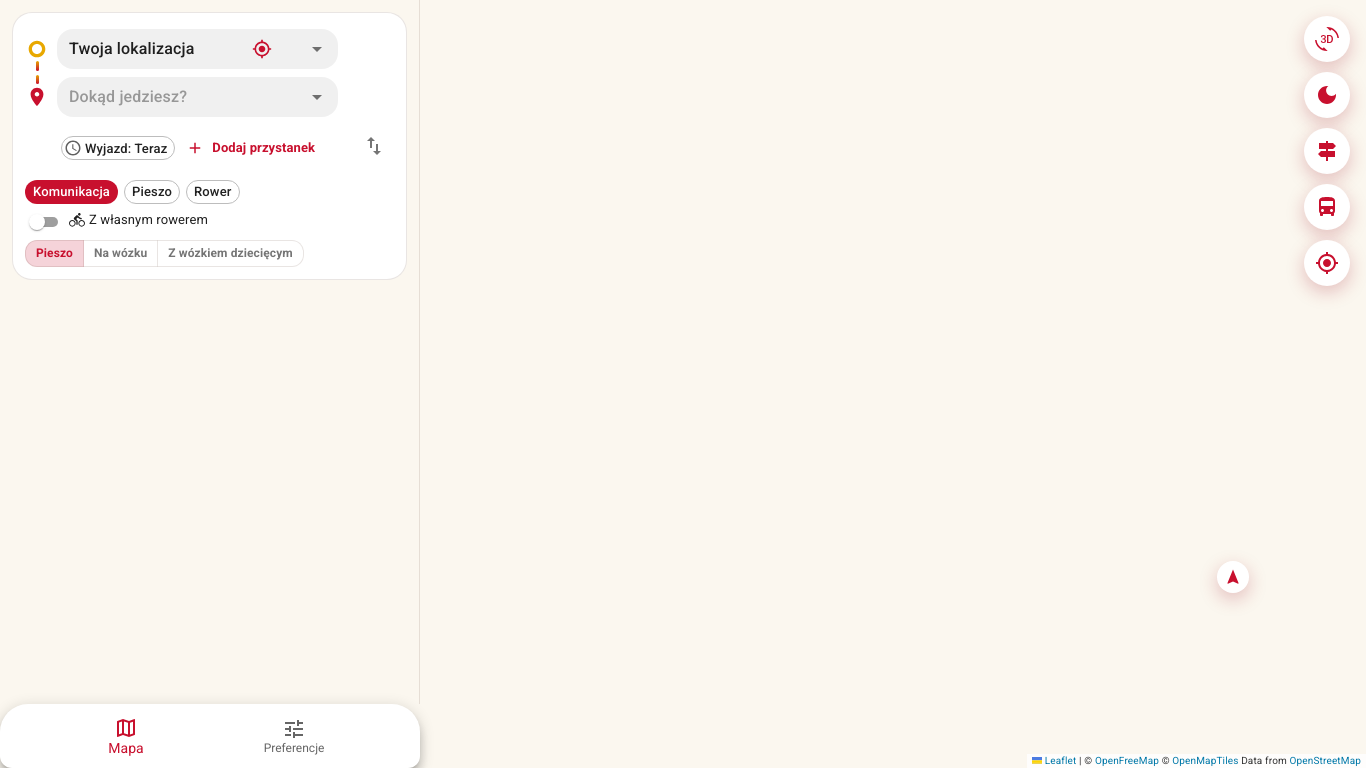
it: pick a place on the map › "Anuluj" leaves everything as it was
The width and height of the screenshot is (1366, 768).
Check: the dropdown with placeholder "Skąd jedziesz?" holds "Twoja lokalizacja", box [65, 29, 239, 69]
Press the mouse on the dropdown with placeholder "Dokąd jedziesz?" at (180, 97), box [65, 77, 295, 117]
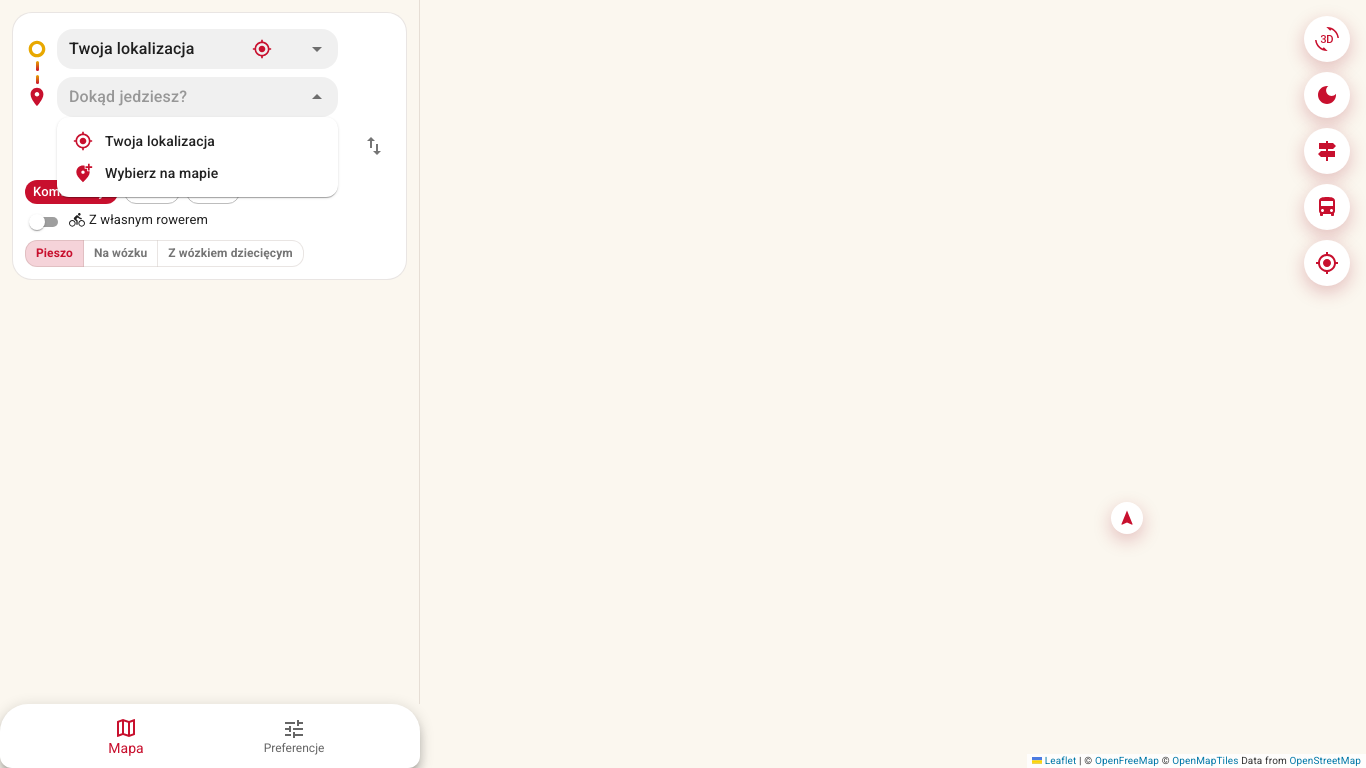
Click the option "Wybierz na mapie".
click(146, 173)  # box [73, 163, 218, 183]
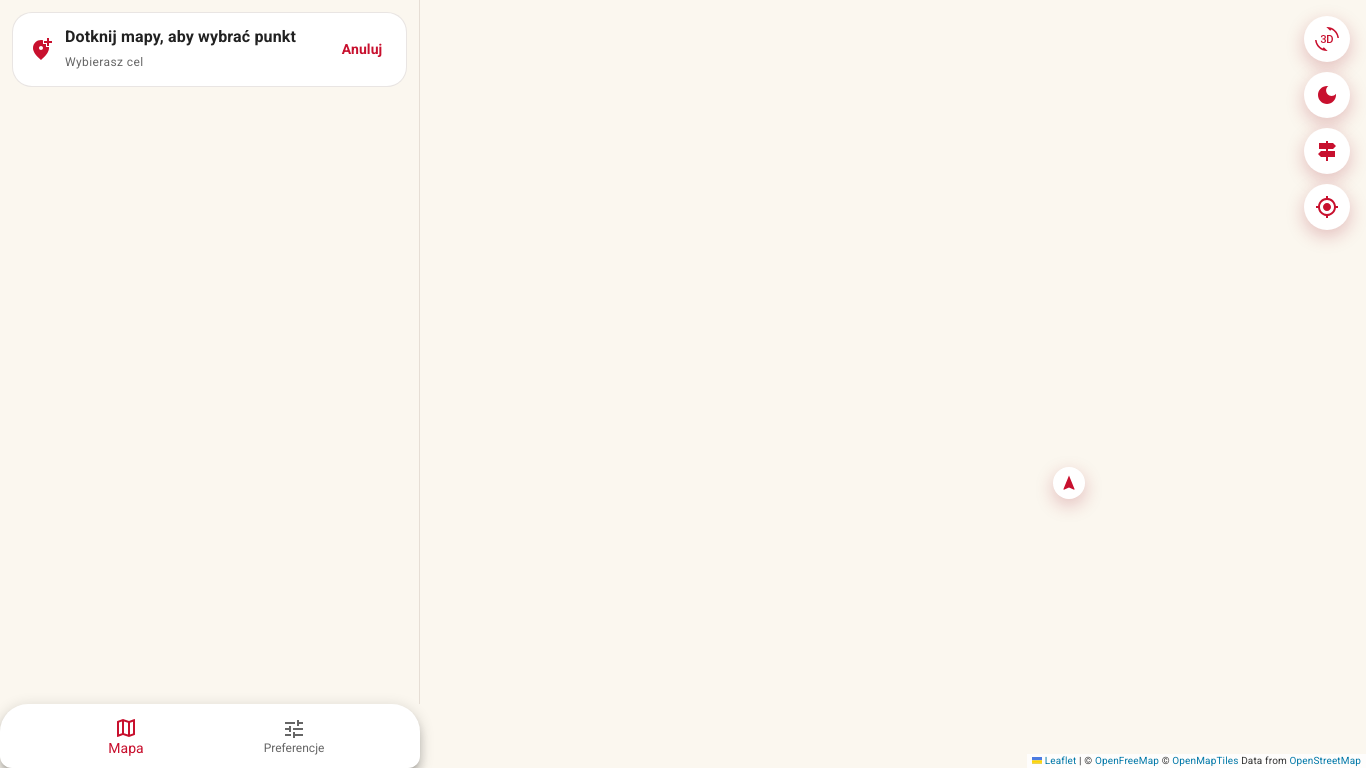
Check: the text "Dotknij mapy, aby wybrać punkt" is shown, box [65, 25, 318, 49]
Click the button "Anuluj".
click(362, 49)  # box [330, 25, 394, 74]
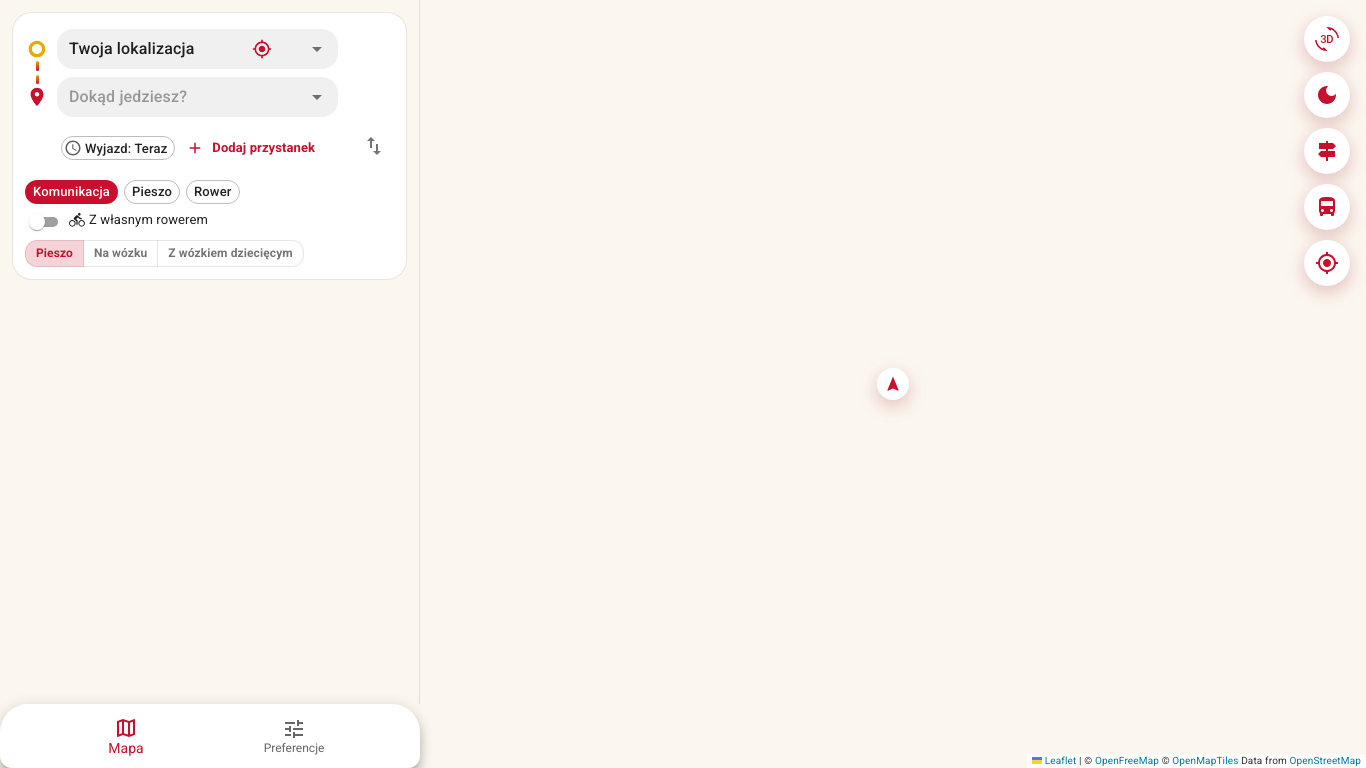
Check: the text "Dotknij mapy, aby wybrać punkt" is gone
Check: the dropdown with placeholder "Dokąd jedziesz?" is empty, box [65, 77, 295, 117]
